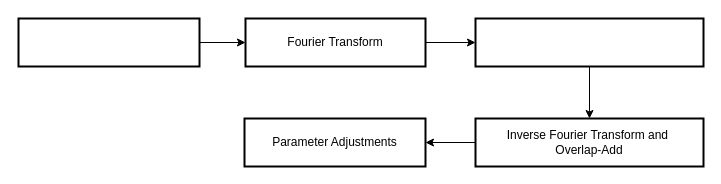
This 721x184 diagram has some shape labels left out. Here are the shapes that lost their labels. From the top down, the centre of each, then its label:
pixel 108 42: Segmentation and Windowing
pixel 589 42: Thresholding and Gating
